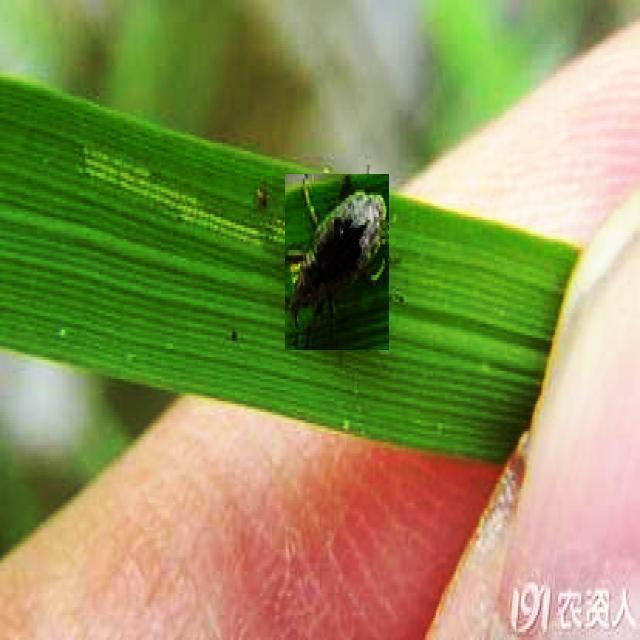rice-bug: (285, 175, 389, 351)
